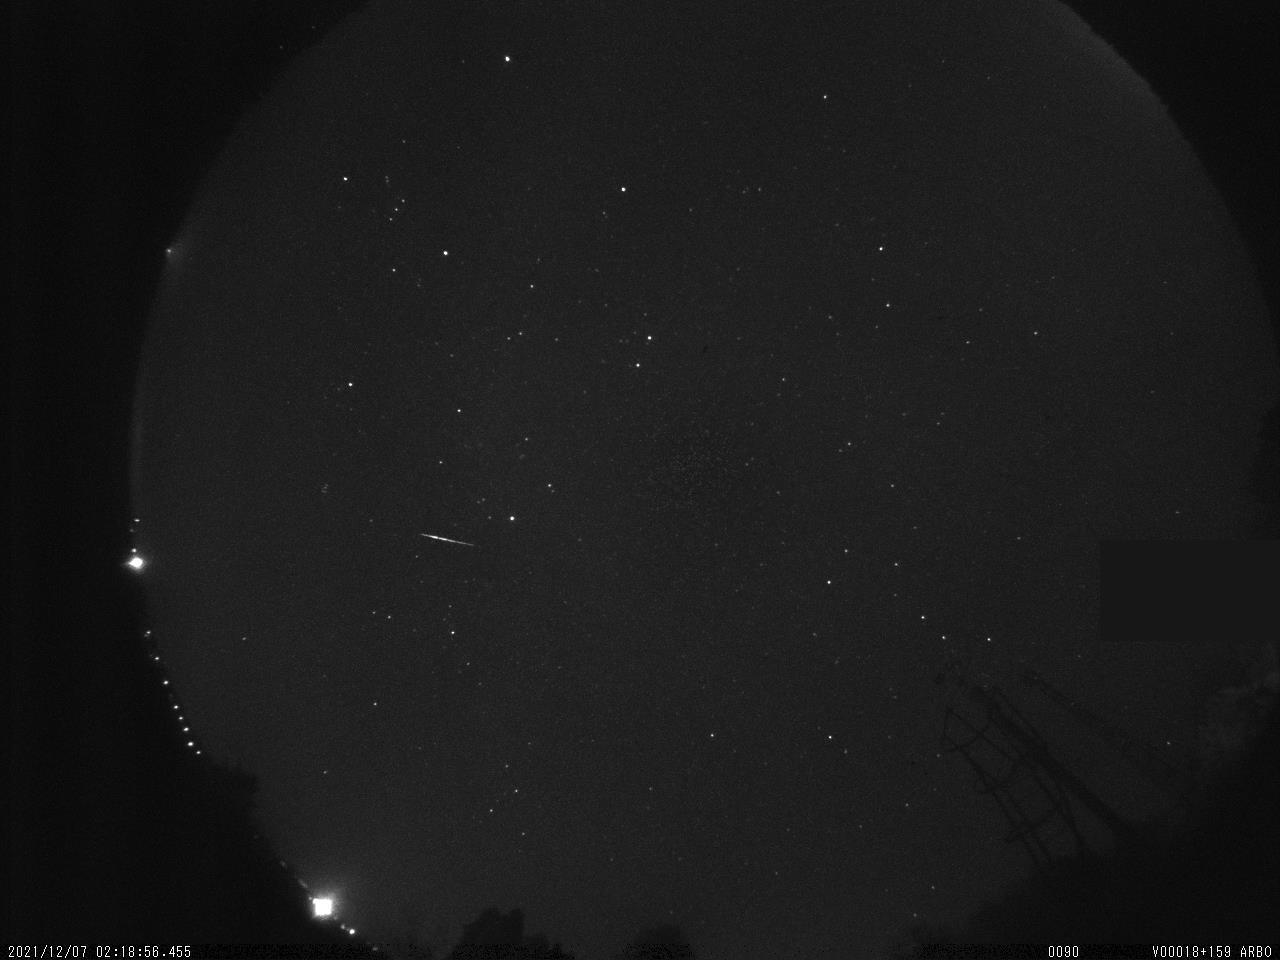meteor: (408, 526, 491, 563)
